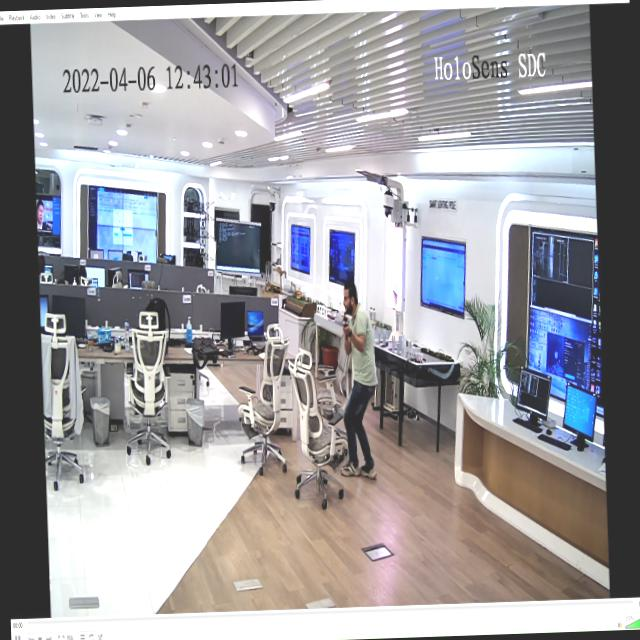long weapon: (338, 308, 356, 348)
